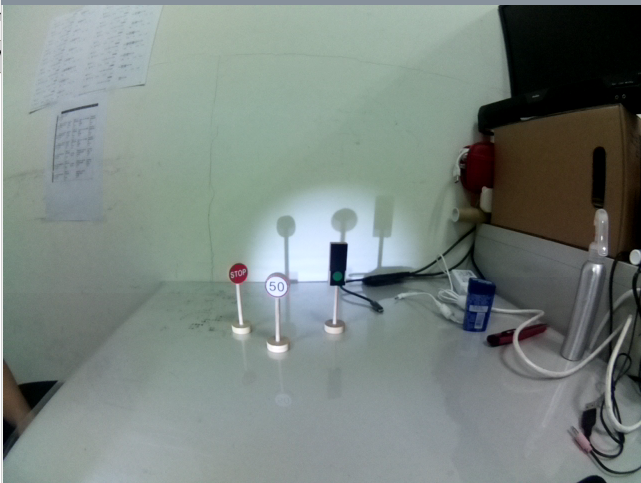Green: (327, 238, 351, 292)
Speed50: (262, 272, 292, 300)
Stop: (225, 263, 250, 287)
